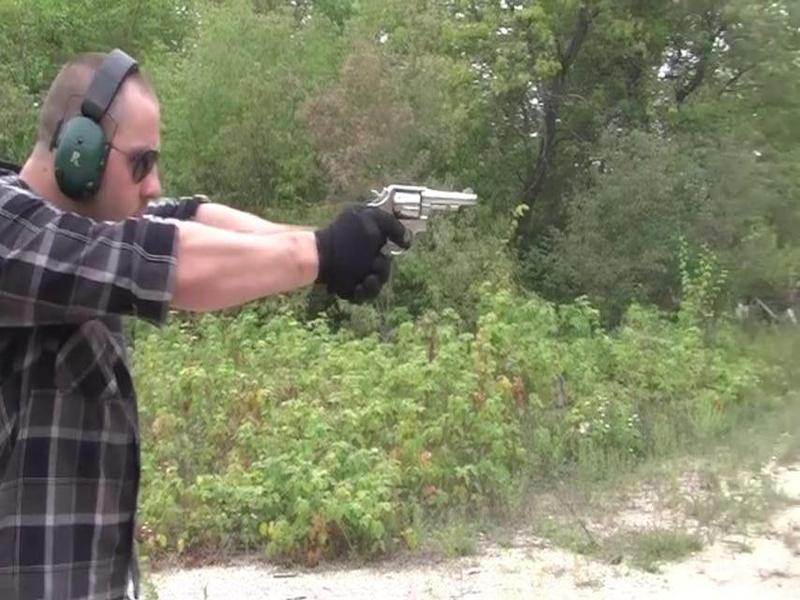Revolver: (354, 168, 482, 253)
